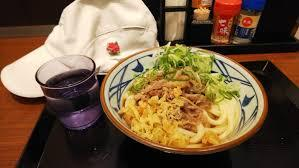niku: (96, 35, 274, 162)
